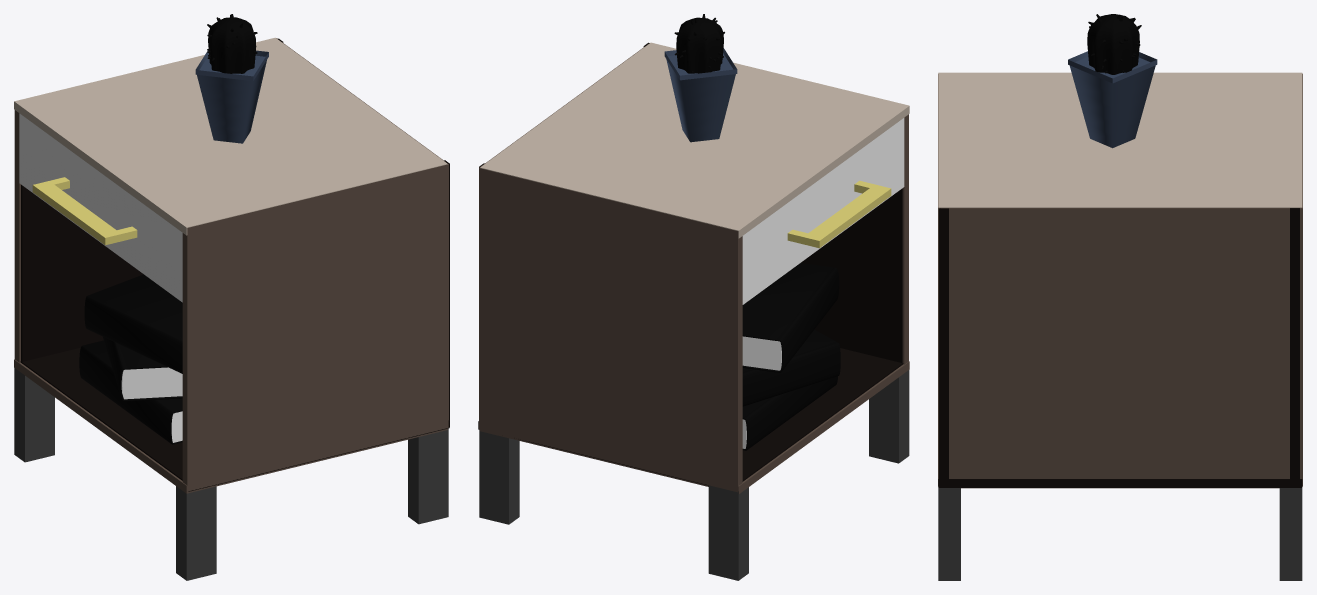
File: furniture.obj
3 renders of one model, left to right at view 1: azimuth 30°, elevation 25°; view 2: azimuth 150°, elevation 25°; view 3: azimuth 270°, elevation 25°, orthographic. The views are drawn at different scales.
Parts seen in each view (by area): view 1: polySurface1946; view 2: polySurface1946; view 3: polySurface1946.
Boxes of the visible parts, box(x1,y1,x2,y2) form: polySurface1946: box(14, 14, 449, 580); polySurface1946: box(478, 14, 909, 580); polySurface1946: box(938, 14, 1302, 580).
Size of the model in its own units: 0.8783 by 1.34 by 0.8908.
